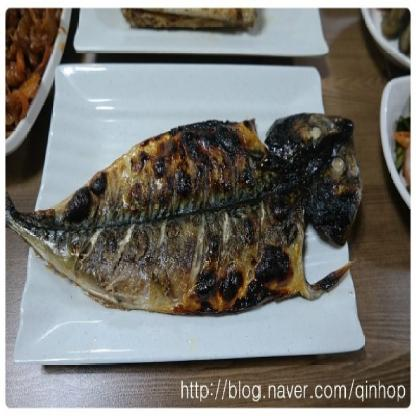Peixe: (0, 101, 378, 341)
